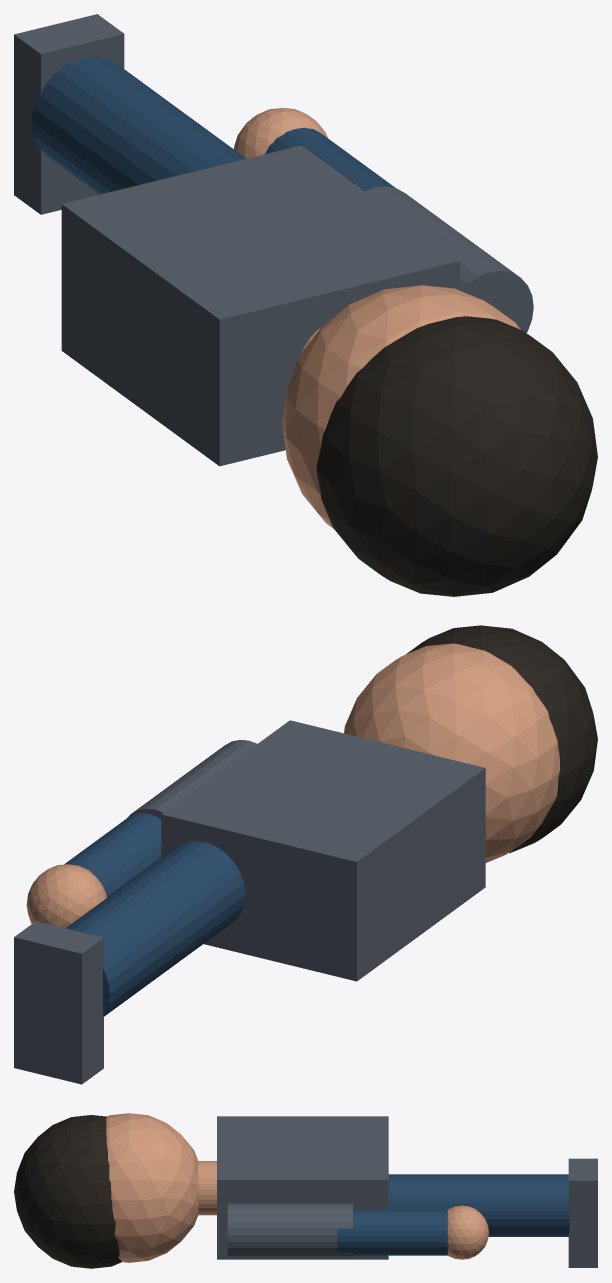
Rendered from cybershield_human_developer.glb.
3 views of the same model, one above another, from view 1: azimuth 30°, elevation 25°; view 2: azimuth 150°, elevation 25°; view 3: azimuth 270°, elevation 25° (orthographic). The views are drawn at different scales.
Visible parts, largest first — view 1: torso, hair, leg, head, shoe, upper_arm, forearm, hand; view 2: torso, head, leg, shoe, hair, forearm, hand, upper_arm; view 3: torso, hair, head, leg, upper_arm, forearm, shoe, hand, neck.
Boxes of the visible parts, <box> form: torso: <box>61,145,459,466</box>; hair: <box>316,316,597,596</box>; leg: <box>31,56,246,194</box>; head: <box>282,285,520,528</box>; shoe: <box>14,14,124,214</box>; upper_arm: <box>365,186,533,332</box>; forearm: <box>265,127,395,190</box>; hand: <box>234,108,327,158</box>; torso: <box>161,720,485,981</box>; head: <box>344,643,559,862</box>; leg: <box>66,841,245,1016</box>; shoe: <box>14,921,103,1084</box>; hair: <box>406,625,597,853</box>; forearm: <box>64,813,161,897</box>; hand: <box>26,864,106,928</box>; upper_arm: <box>127,740,257,819</box>; torso: <box>217,1116,388,1259</box>; hair: <box>14,1115,121,1268</box>; head: <box>106,1113,198,1262</box>; leg: <box>388,1174,569,1236</box>; upper_arm: <box>227,1203,352,1257</box>; forearm: <box>337,1209,448,1255</box>; shoe: <box>568,1158,597,1267</box>; hand: <box>447,1205,488,1259</box>; neck: <box>198,1161,216,1215</box>.
Bounding box in the file's own units: 1 × 0.75 × 2.79.
